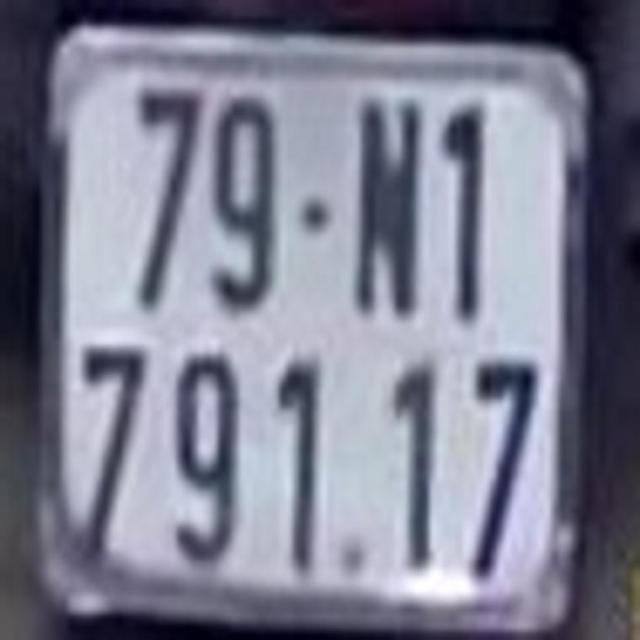1: (440, 100, 486, 326), (390, 354, 438, 570), (278, 356, 316, 575)
7: (77, 339, 150, 559), (472, 354, 538, 584), (141, 91, 202, 312)
9: (214, 98, 279, 309), (172, 349, 236, 556)
N: (353, 96, 418, 321)
